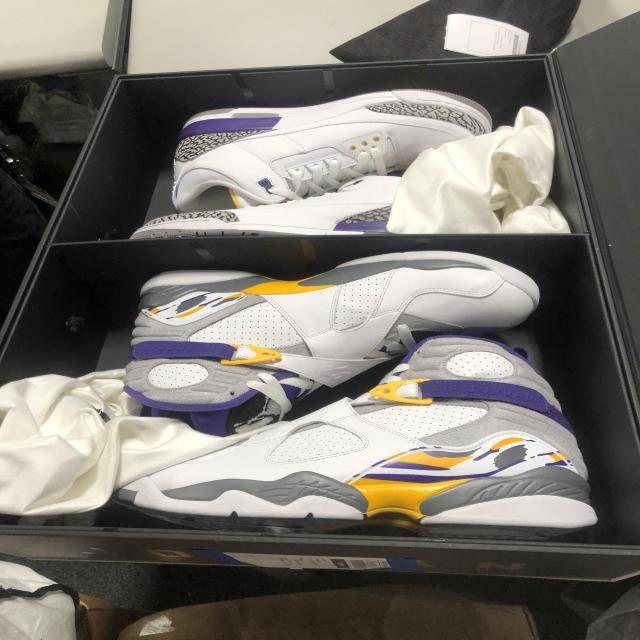shoes: (115, 326, 619, 552), (120, 248, 550, 442), (158, 84, 508, 214), (115, 167, 572, 250)
